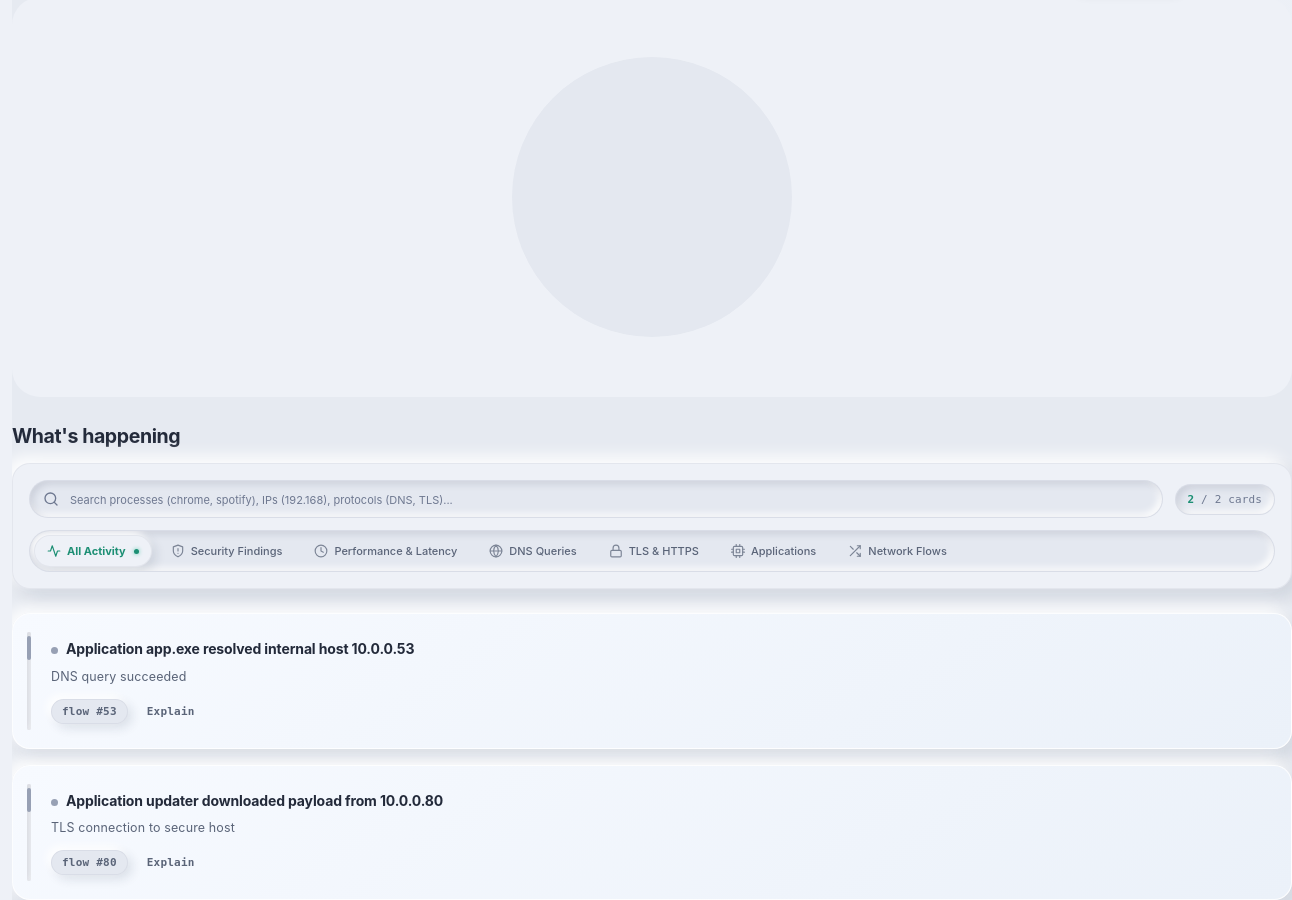
Test case: Dashboard Screen › authoritative category and protocol tags override substring ambiguity
(page scrolled)
// Click DNS Queries tab
Click the tab "DNS Queries". click: (533, 551)
box: x1=476 y1=535 x2=590 y2=567
(page scrolled)
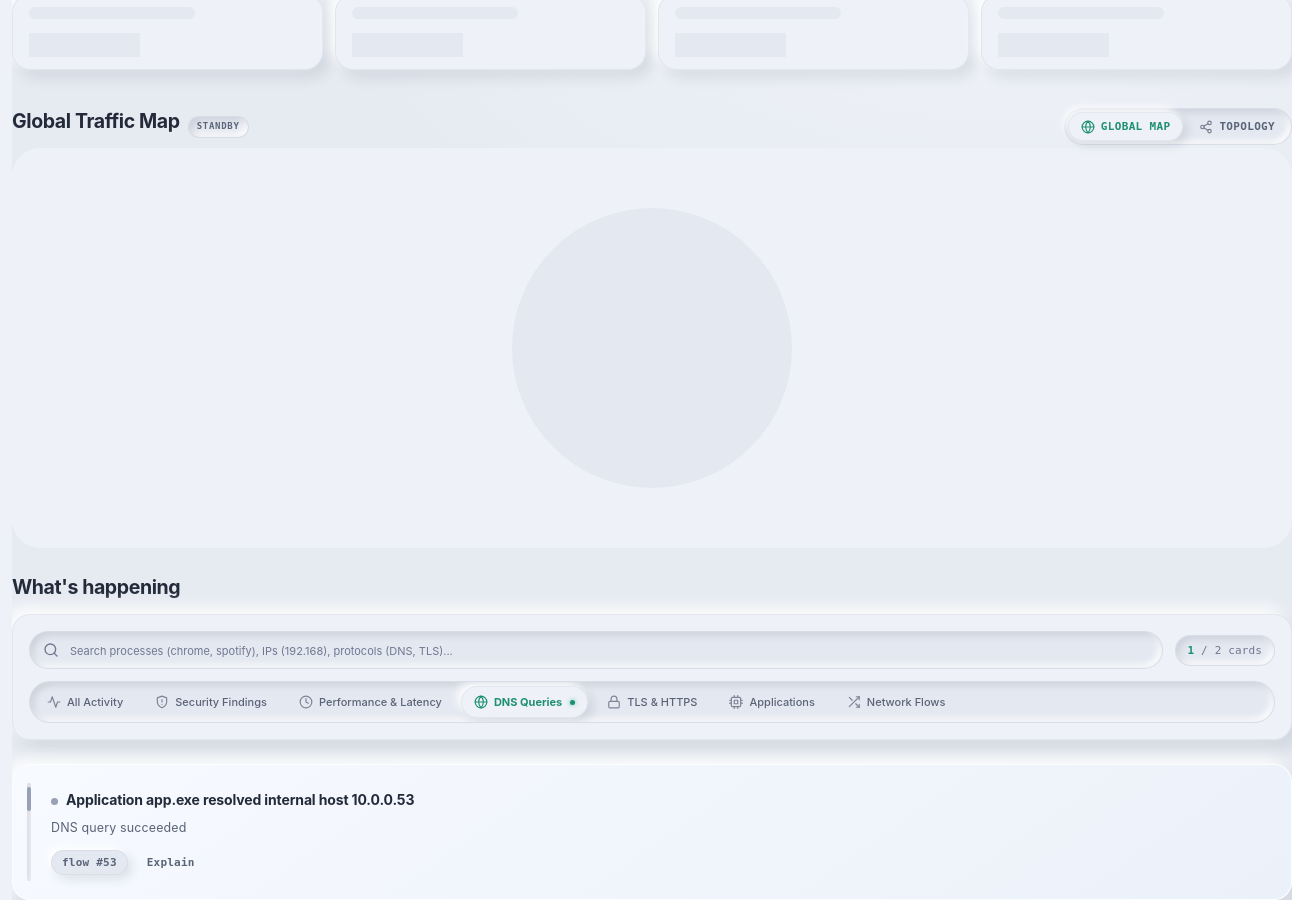
Expected: the text "Application app.exe resolved internal host 10.0.0.53" is shown, x1=51 y1=791 x2=414 y2=808
Result: the text "Application updater downloaded payload from 10.0.0.80" is gone
Click the tab "TLS & HTTPS". click: (652, 702)
box: x1=594 y1=686 x2=710 y2=718
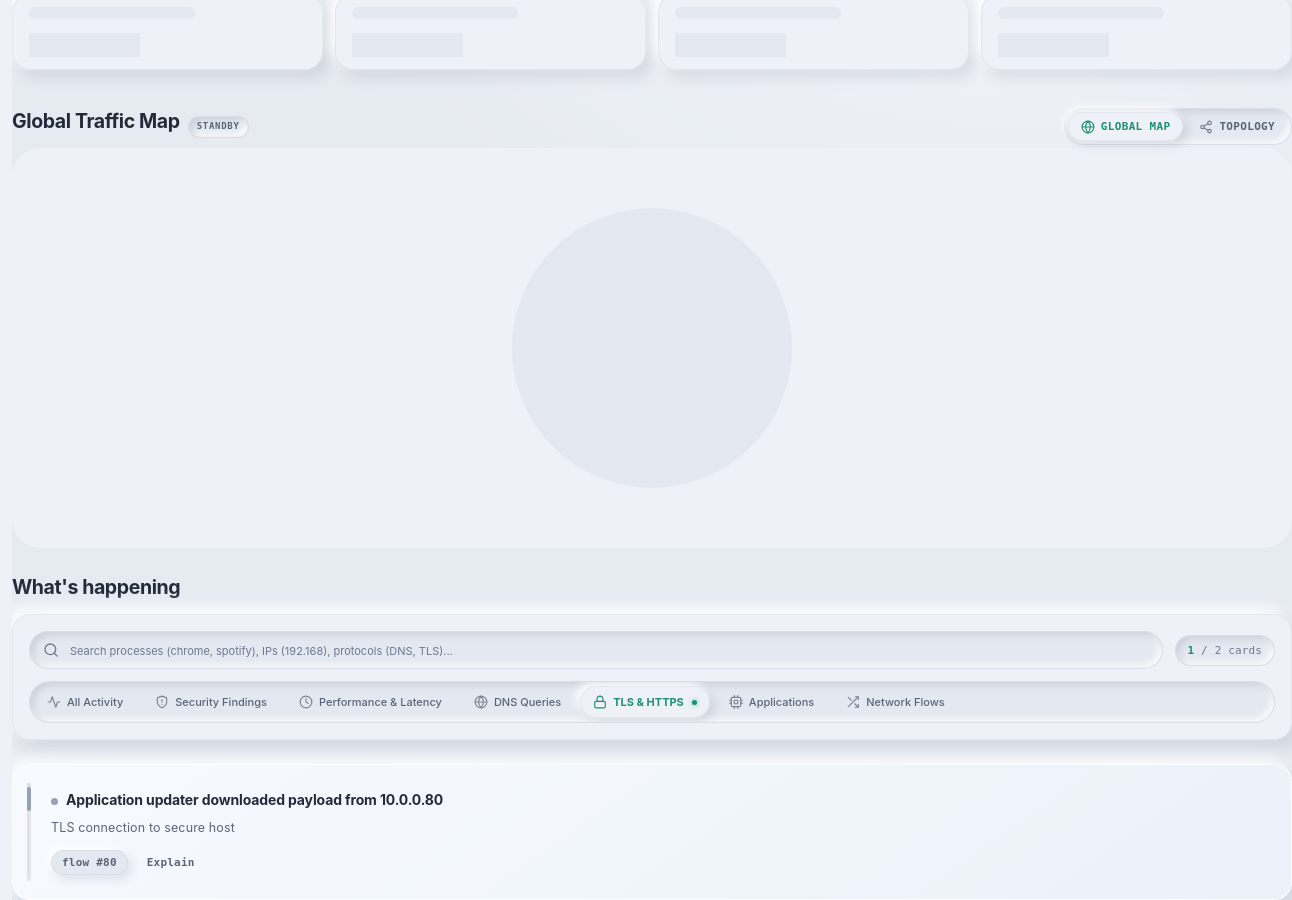
Result: the text "Application app.exe resolved internal host 10.0.0.53" is gone
Result: the text "Application updater downloaded payload from 10.0.0.80" is shown at x1=51 y1=791 x2=443 y2=808
